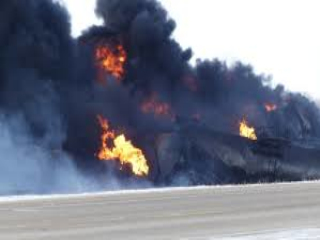fire: (92, 126, 153, 178), (89, 44, 127, 81), (143, 98, 172, 114), (239, 119, 257, 139), (262, 101, 274, 112)
smoke: (4, 4, 296, 184)
